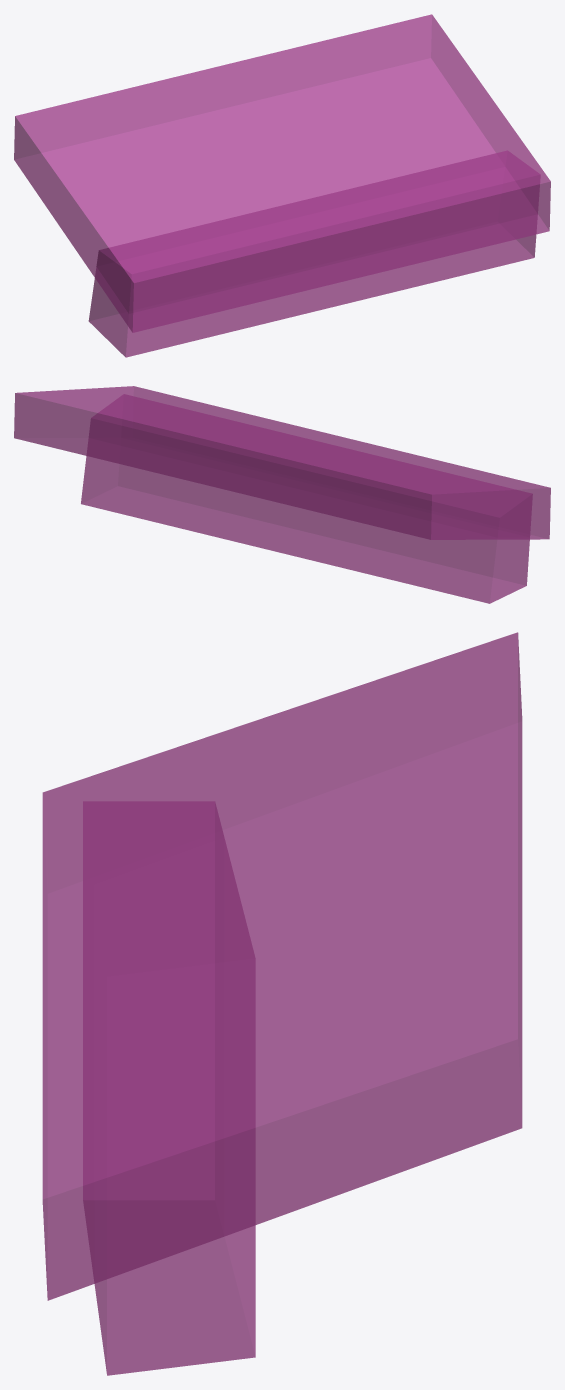
The model's file is SM_Bld_Roof_Edge_Small_01_Collision_01.fbx.
3 renders of one model, top to bottom at view 1: azimuth 30°, elevation 25°; view 2: azimuth 150°, elevation 25°; view 3: azimuth 270°, elevation 25°, orthographic. The views are drawn at different scales.
Visible parts, largest first — view 1: SM_Bld_Roof_Edge_Small_01_Collision_01; view 2: SM_Bld_Roof_Edge_Small_01_Collision_01; view 3: SM_Bld_Roof_Edge_Small_01_Collision_01.
Part boxes in pixels (x1,y1,x2,y2): SM_Bld_Roof_Edge_Small_01_Collision_01: (14,14,550,357); SM_Bld_Roof_Edge_Small_01_Collision_01: (14,386,550,603); SM_Bld_Roof_Edge_Small_01_Collision_01: (42,632,522,1375).
Size of the model in its own units: 258 by 99.7 by 129.
